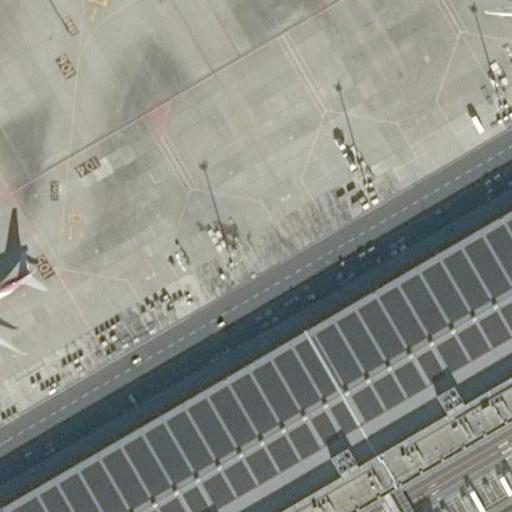Aircraft: (0, 223, 55, 356), (476, 0, 512, 54)
